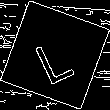L_NW: (30, 25, 80, 85)
